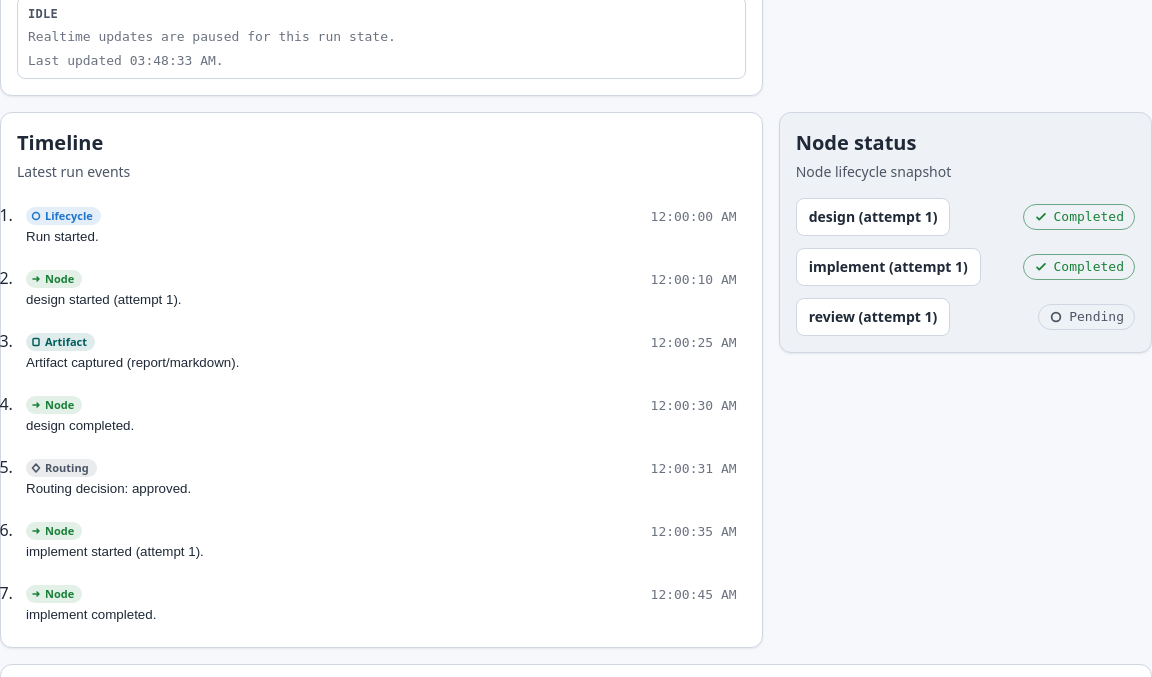
Test case: RunDetailContent realtime updates › clears stale selected stream events after selecting a non-streamable node
(page scrolled)
Expected: the element "Node status" is shown, [779,112,1151,353]
Step 1. Click the button "review (attempt 1)" → (873, 317), box [796,298,950,336]
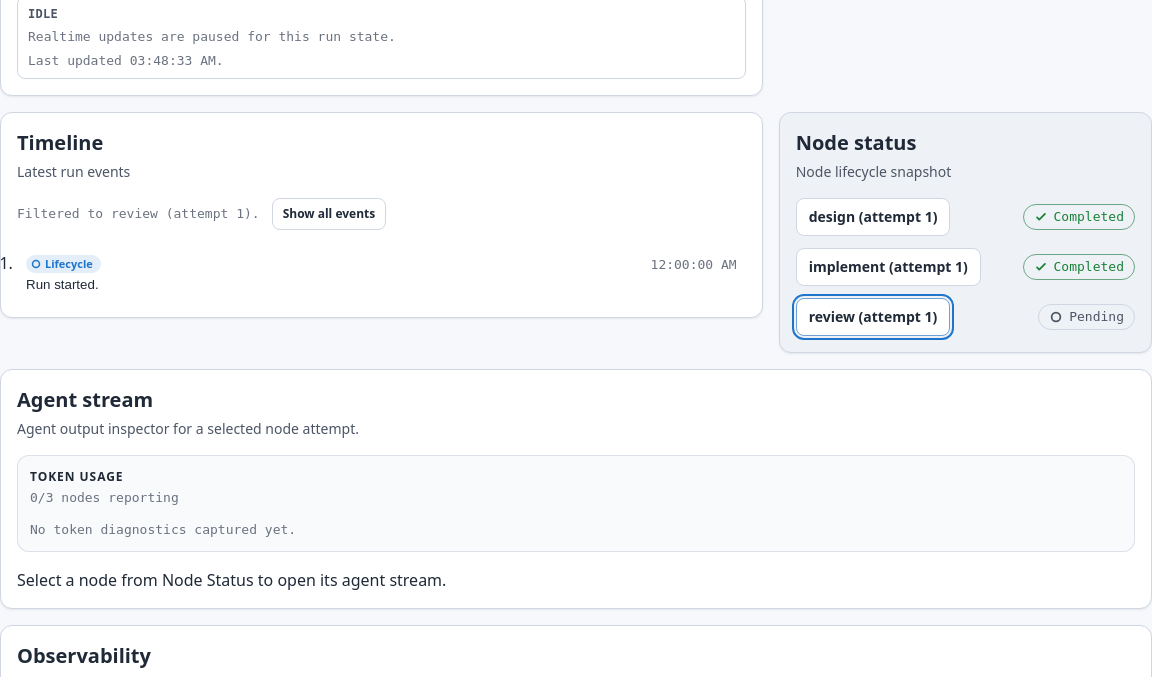
Step 2. Click the button "implement (attempt 1)" → (888, 267), box [796,248,981,286]
(page scrolled)
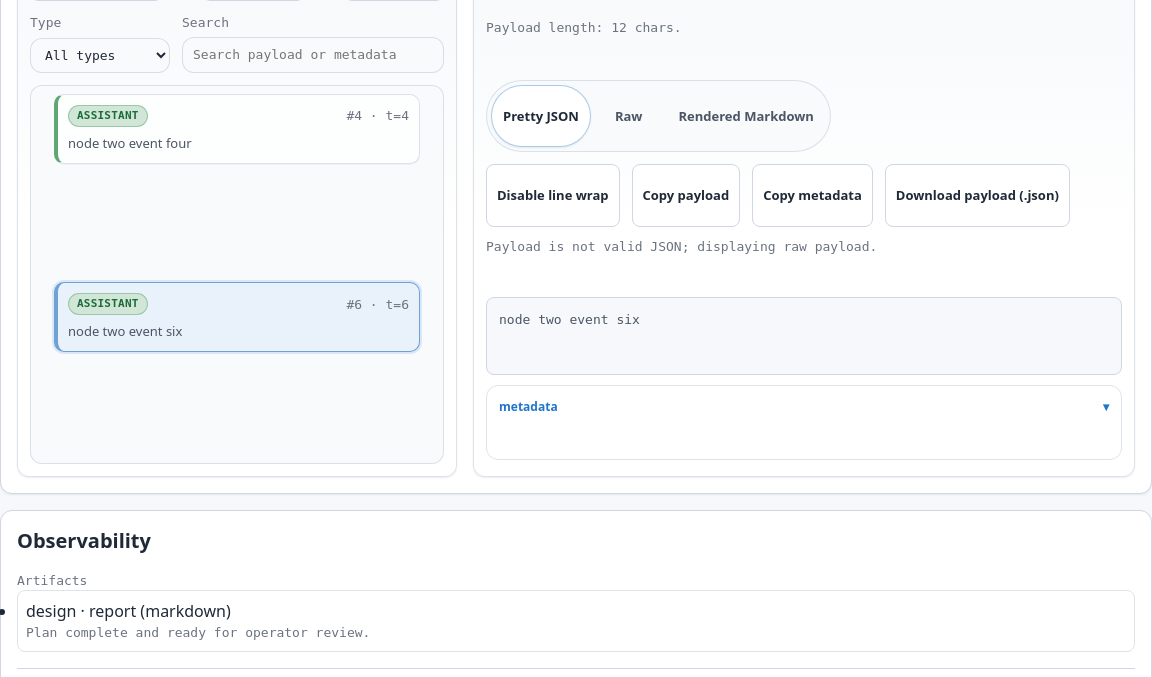
Now the text "node two event four" is shown, box [68,134,192,152]
Now the text "node two event six" below "Type" is shown, box [68,322,182,340]
